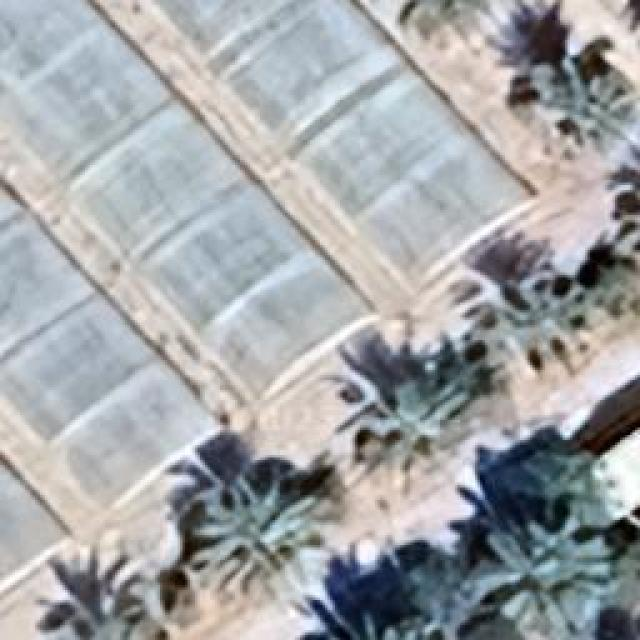PalmTree: (125, 33, 625, 570), (30, 114, 378, 624), (192, 478, 332, 600), (358, 375, 488, 503), (480, 520, 612, 638), (460, 270, 592, 368), (32, 558, 158, 638), (522, 58, 626, 148), (390, 0, 538, 48), (605, 164, 640, 258), (590, 260, 638, 322)
